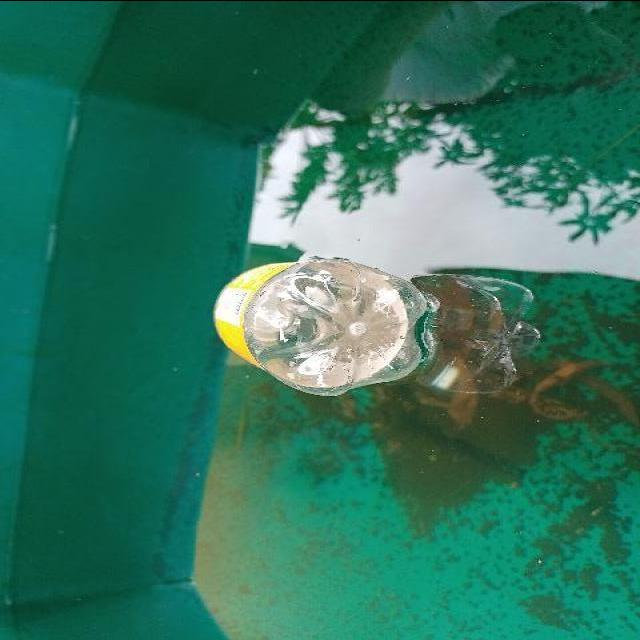Bottle: (202, 245, 444, 408)
